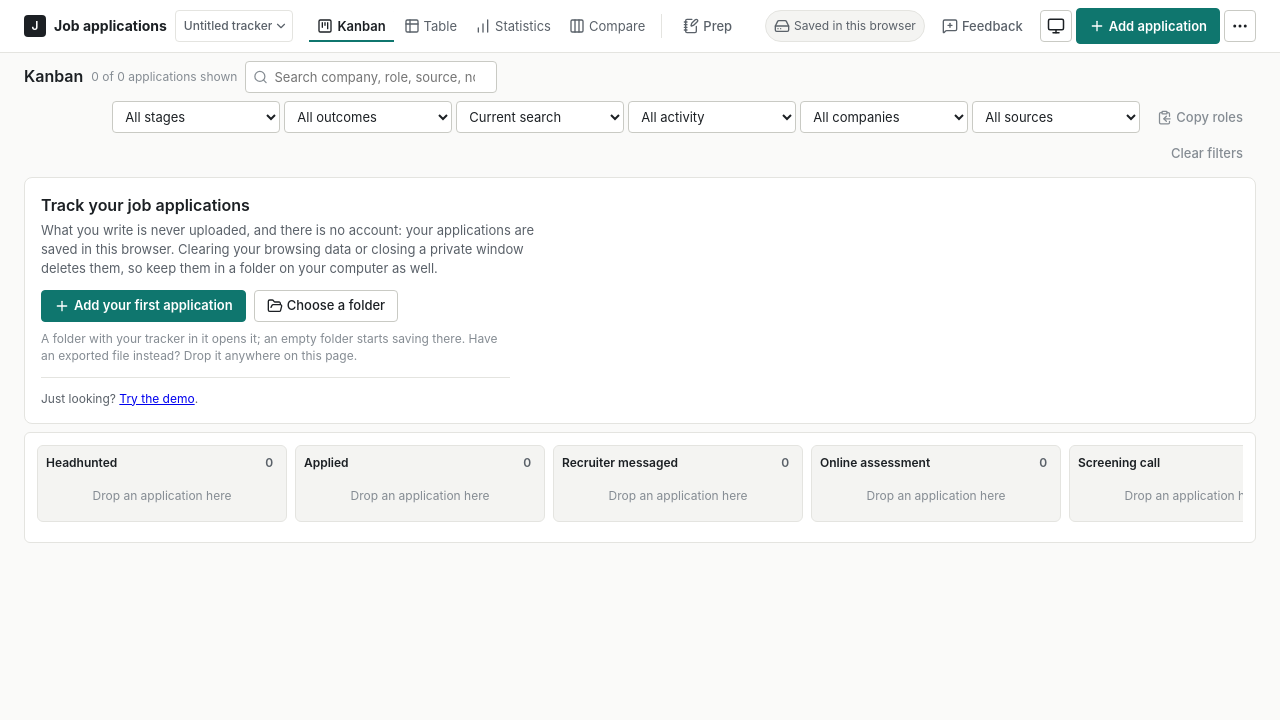
the static build › starts by adding an application, and goes once there is one
Click the button "Add your first application": (143, 306) [41,290,246,322]
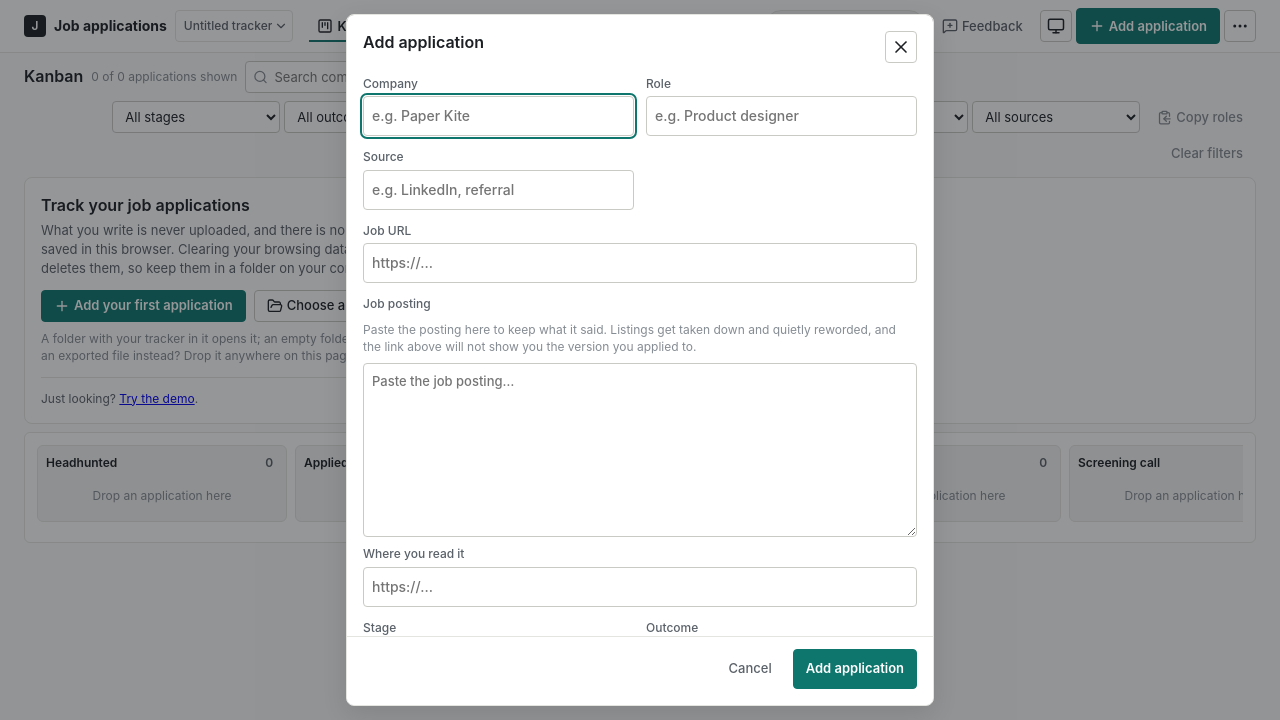
In the field labelled "Company": (498, 116) [363,96,634,136], type "Northwind"
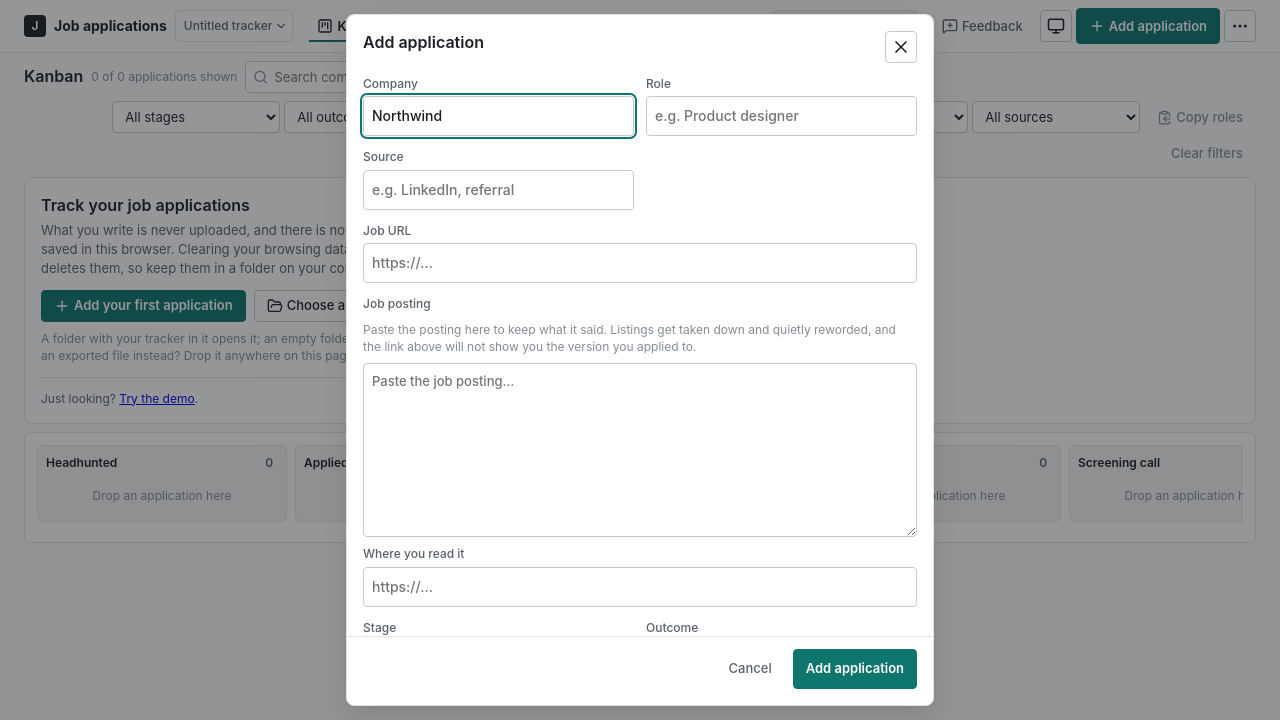
Click the button "Add application": (855, 669) [793,649,917,689]
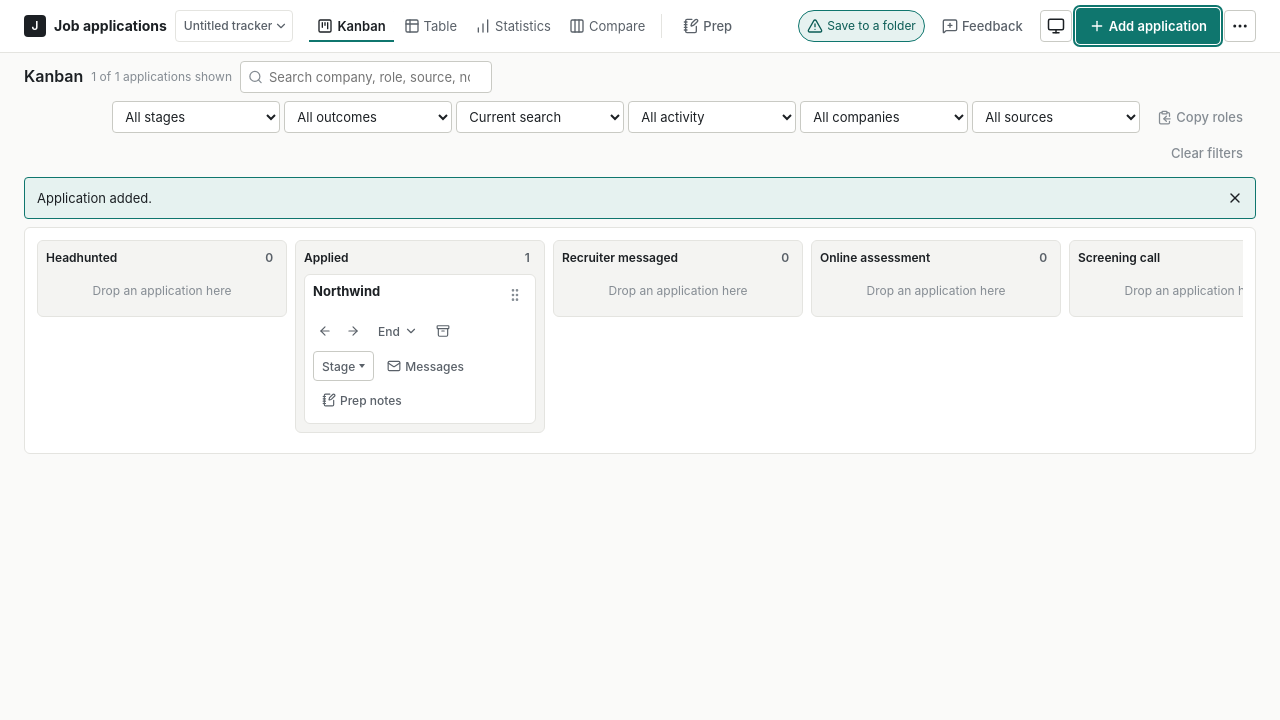
Now the heading "Track your job applications" is gone
